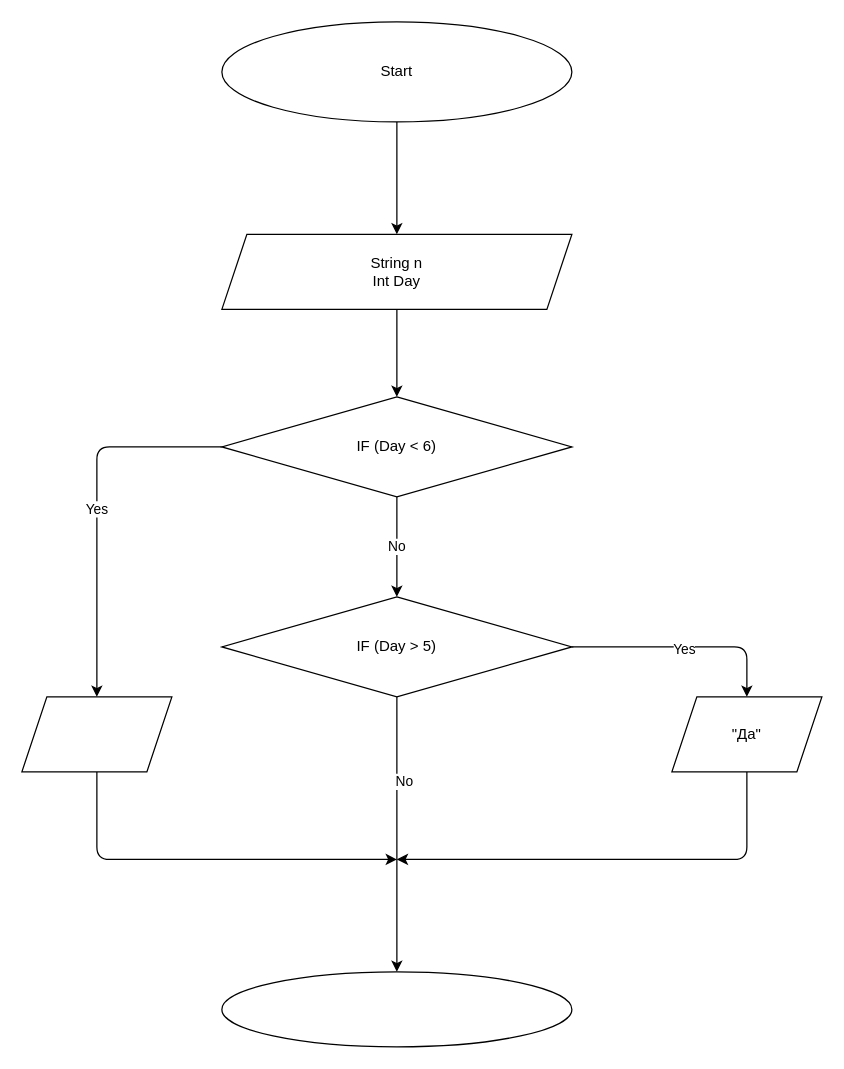
The diagram is 844 pixels wide and 1069 high, and some of its shapes have lost their labels. Each missing label, with the box of its shape:
"Нет": (21, 696, 172, 772)
End: (221, 971, 572, 1047)
